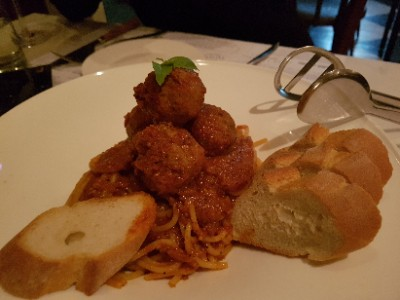meatballs: (125, 73, 231, 188)
slice of bread: (22, 191, 131, 282), (256, 174, 366, 254)
